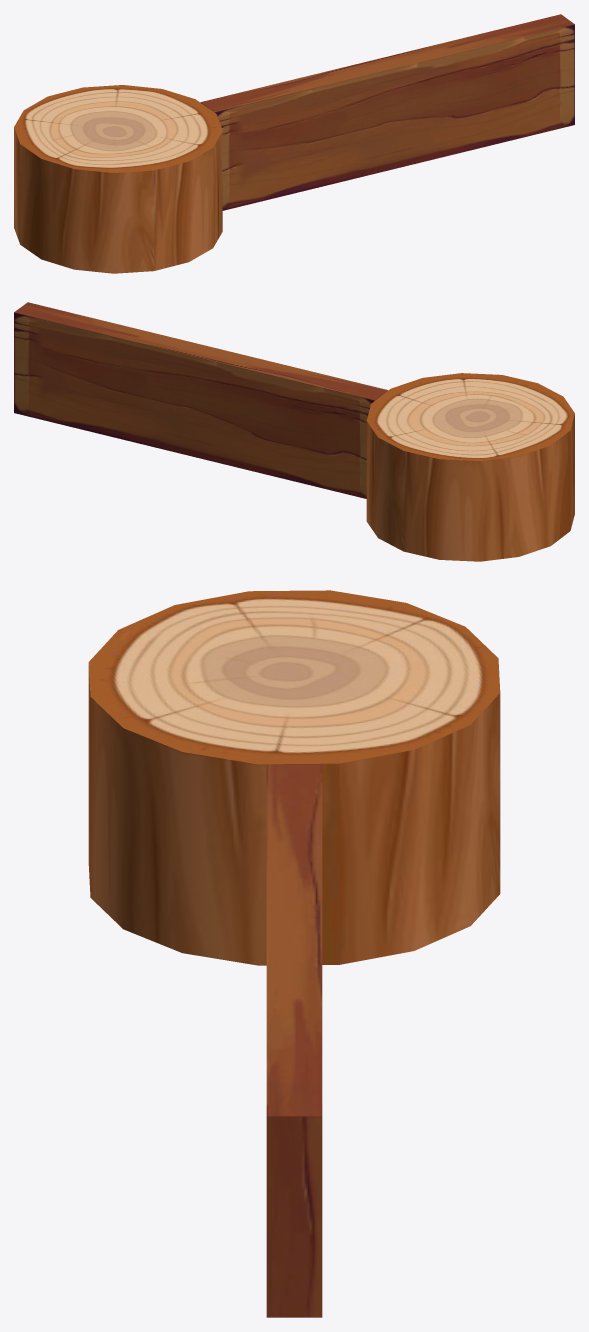
Rendered from one_blade_wood_02.fbx.
3 renders of one model, top to bottom at view 1: azimuth 30°, elevation 25°; view 2: azimuth 150°, elevation 25°; view 3: azimuth 270°, elevation 25°, orthographic. The views are drawn at different scales.
Visible parts, largest first — view 1: one_blade_wood_02; view 2: one_blade_wood_02; view 3: one_blade_wood_02.
Boxes of the visible parts, x1,y1,x2,y2 form: one_blade_wood_02: (14, 14, 574, 273); one_blade_wood_02: (14, 302, 574, 561); one_blade_wood_02: (88, 590, 500, 1317).
Bounding box in the file's own units: 224 × 40 × 74.15.
